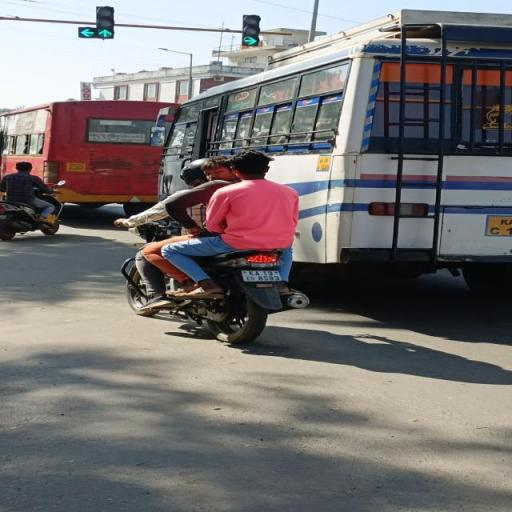bike: (116, 146, 318, 347)
numberplate: (241, 266, 283, 284)
withouthelmet: (232, 152, 270, 178), (204, 158, 232, 180)
